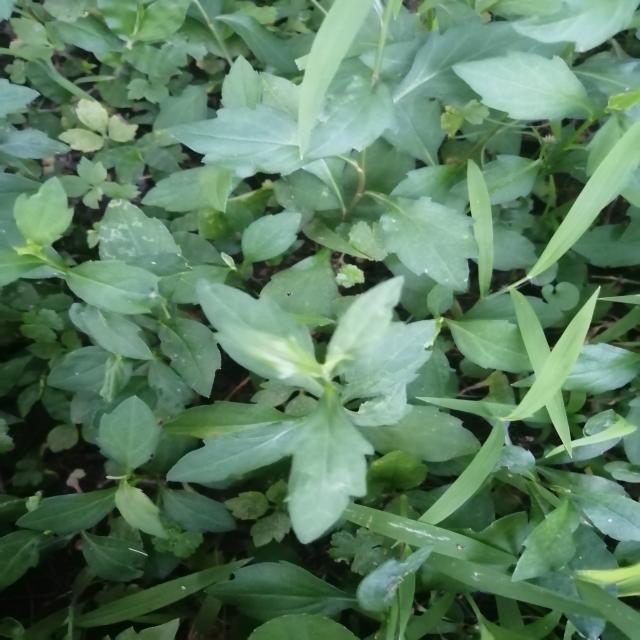Indian aster: (174, 264, 476, 530)
